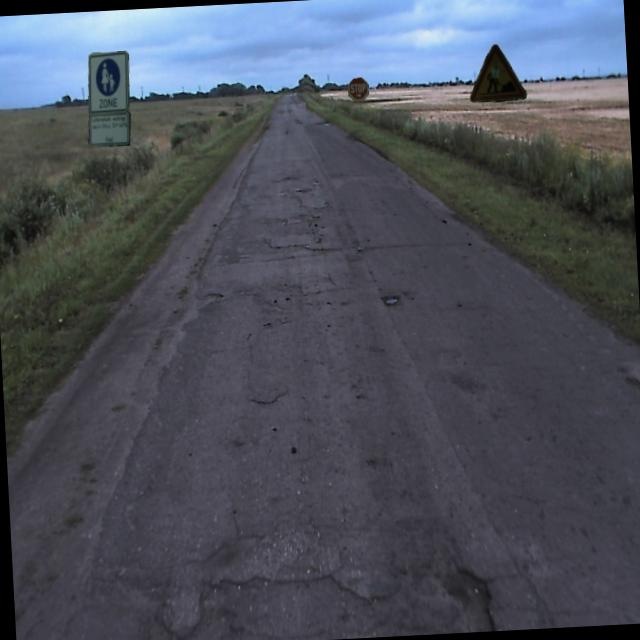road: (64, 97, 640, 640)
